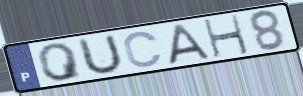8: (248, 8, 288, 53)
A: (167, 22, 212, 66)
C: (122, 30, 164, 69)
H: (201, 13, 252, 60)
Q: (35, 41, 86, 83)
U: (77, 32, 125, 78)
